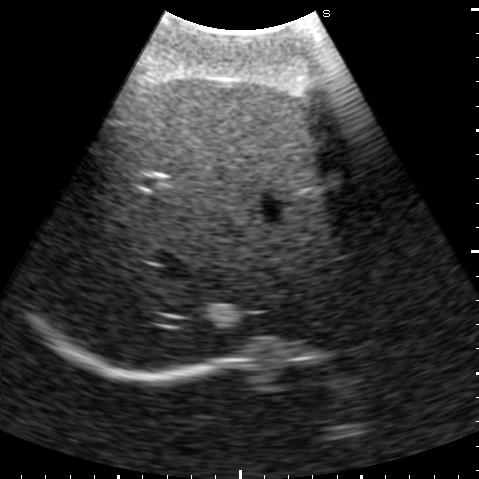S5: (113, 78, 343, 193)
S7: (31, 148, 132, 318)
S8: (81, 179, 374, 370)
Tumor: (203, 302, 240, 327)
